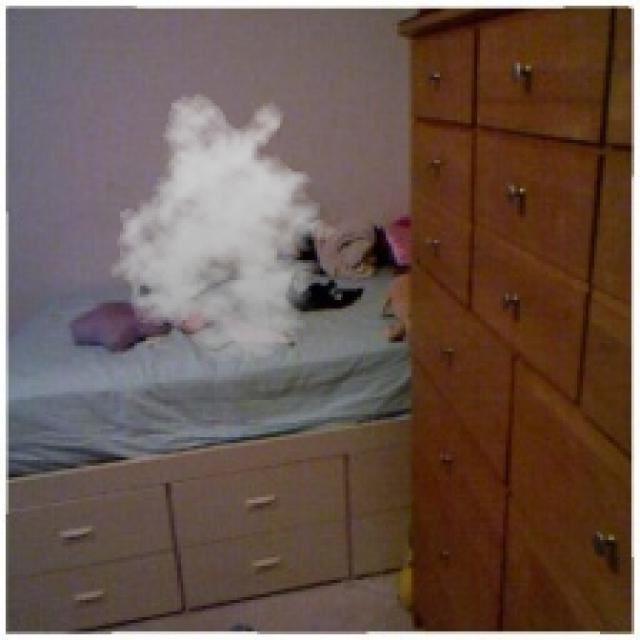smoke: (103, 91, 348, 363)
